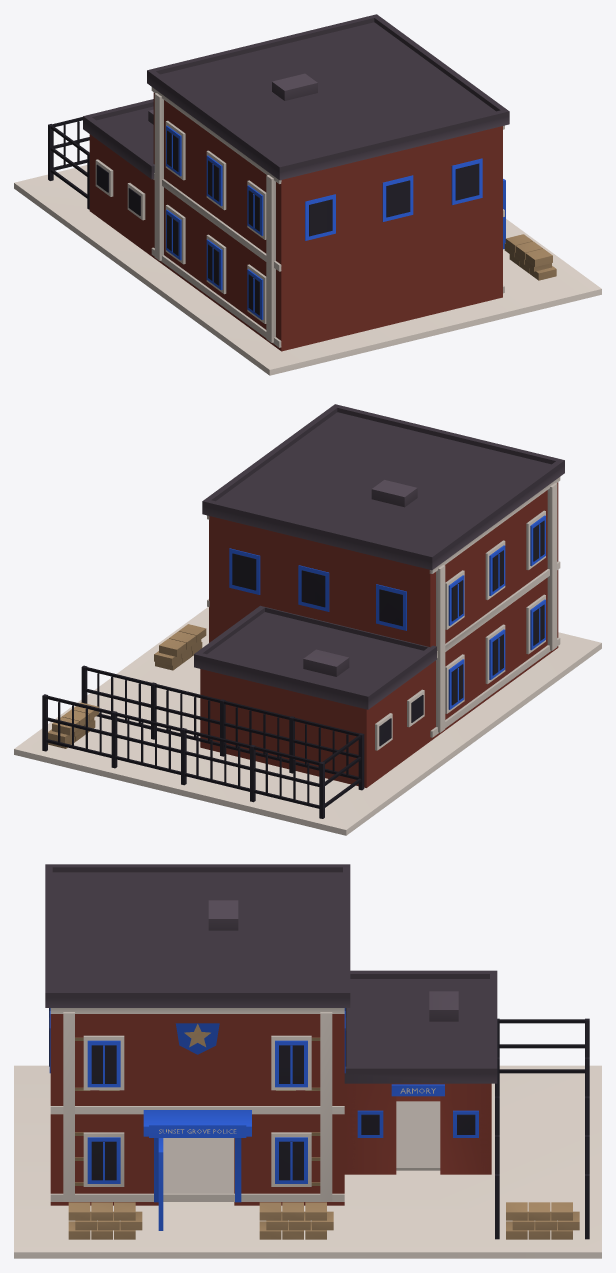
Rendered from bld.police-station.lod1.glb.
3 views of the same model, one above another, from view 1: azimuth 30°, elevation 25°; view 2: azimuth 150°, elevation 25°; view 3: azimuth 270°, elevation 25° (orthographic). The views are drawn at different scales.
Parts seen in each view (by area): view 1: body, roof; view 2: body, roof; view 3: body, roof, interior, doorMain.
Boxes of the visible parts, x1,y1,x2,y2 form: body: [14, 87, 601, 375]; roof: [83, 14, 509, 180]; body: [14, 477, 601, 835]; roof: [194, 404, 564, 709]; body: [14, 1008, 601, 1258]; roof: [45, 864, 497, 1083]; interior: [163, 1101, 440, 1193]; doorMain: [158, 1138, 163, 1230].
Size of the model in its own units: 12 by 6.85 by 16.
